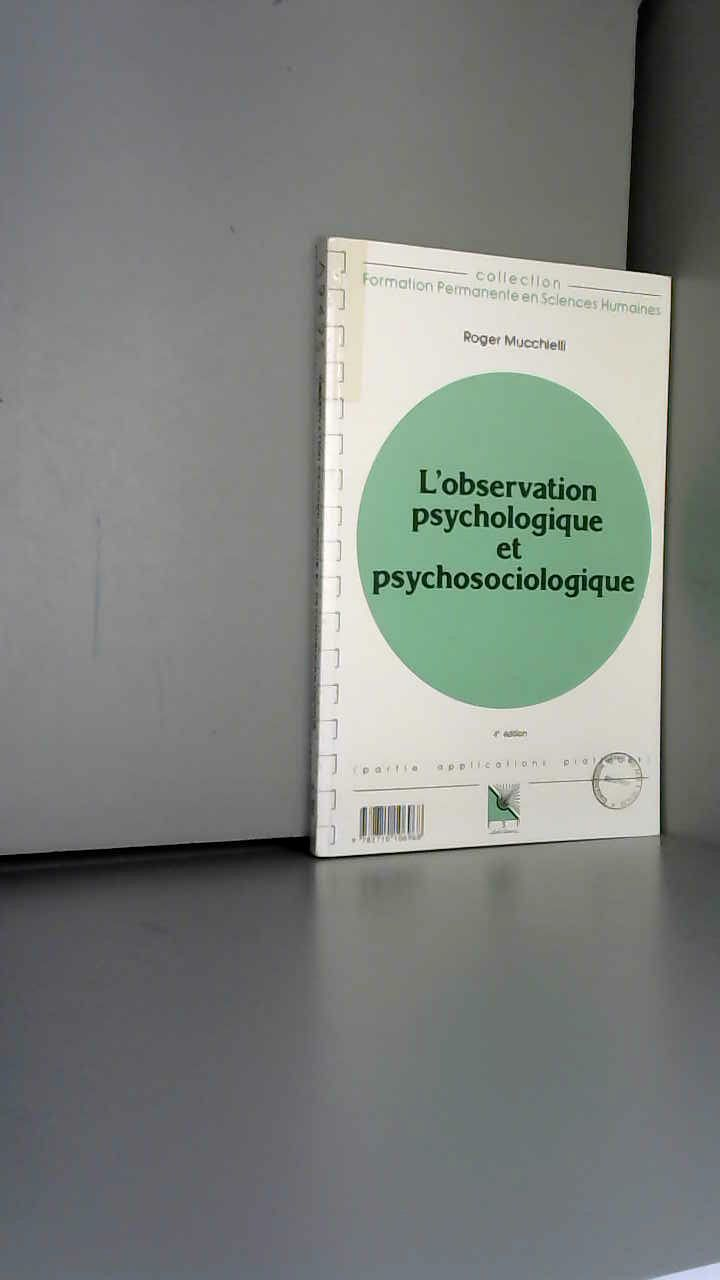book: (290, 210, 717, 940)
